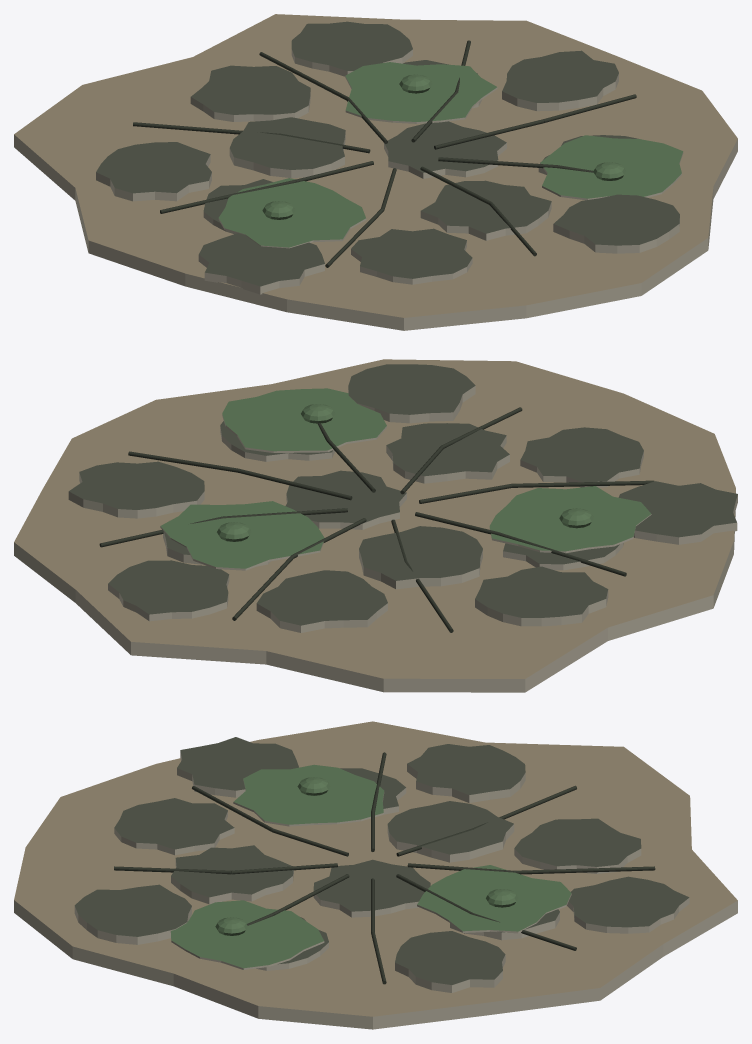
File: Lakebed_Cracked_Flat_Polluted.glb
3 renders of one model, top to bottom at view 1: azimuth 30°, elevation 25°; view 2: azimuth 150°, elevation 25°; view 3: azimuth 270°, elevation 25°, orthographic. The views are drawn at different scales.
Parts seen in each view (by area): view 1: Structure; view 2: Structure; view 3: Structure.
Part boxes in pixels (x1,y1,x2,y2): Structure: (14, 14, 737, 330); Structure: (14, 359, 737, 692); Structure: (14, 721, 737, 1029).
Bounding box in the file's own units: 5.95 × 0.298 × 6.16.
